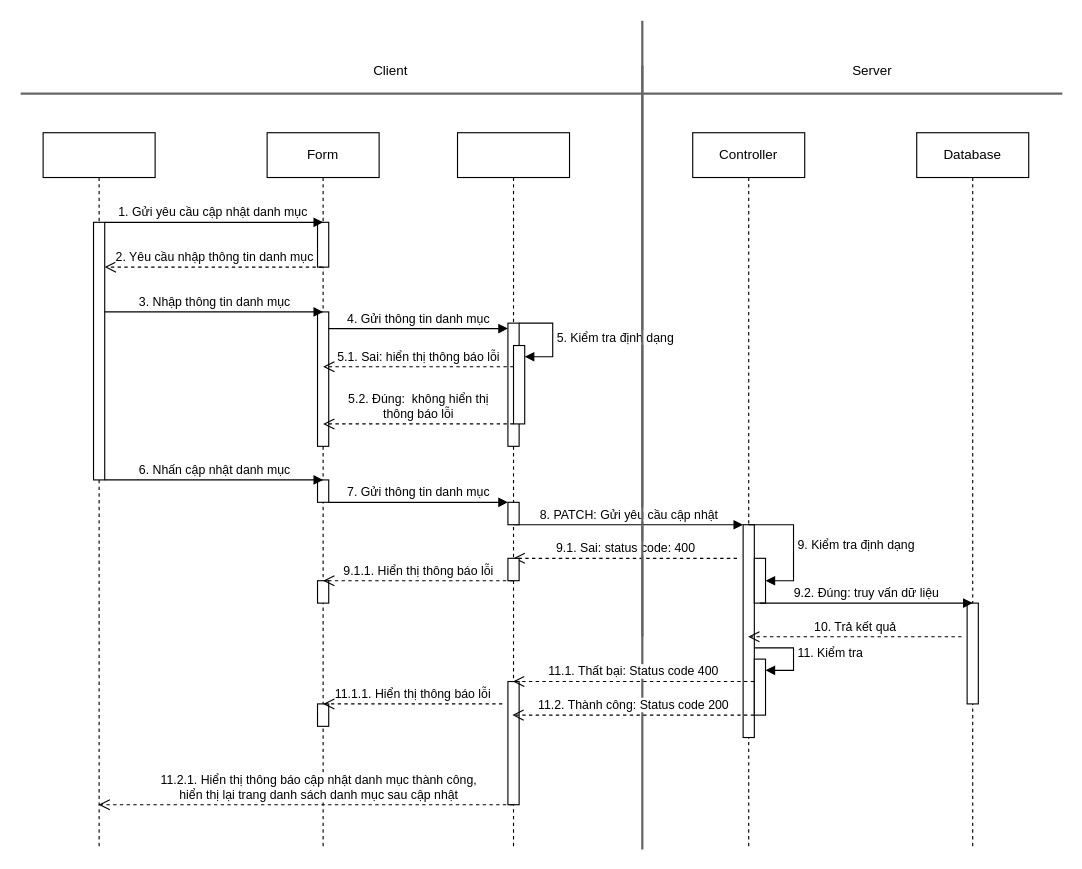
The diagram is 1082 pixels wide and 869 high, and some of its shapes have lost their labels. Here are the shapes that lost their labels. From the top down, the centre of each, then its label:
At pixel 98 491: "Quản trị viên/ Nhân viên".
At pixel 513 491: "ViewModel".
